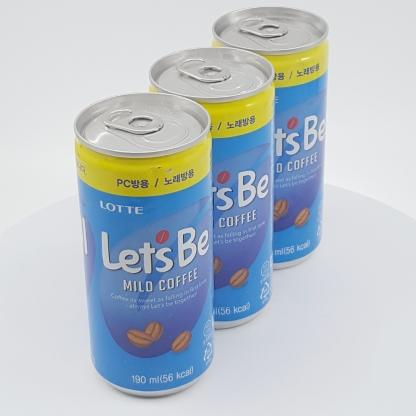------190ml: (73, 92, 213, 397), (148, 47, 275, 330), (212, 6, 329, 270)
